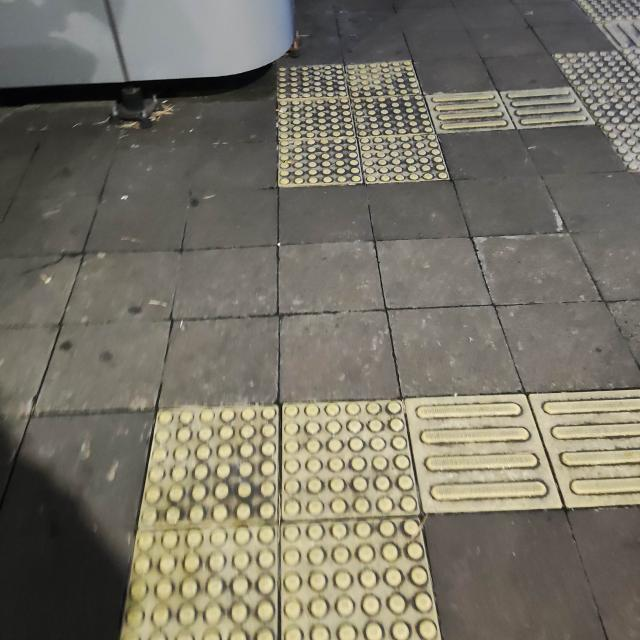kanan: (97, 372, 640, 640)
